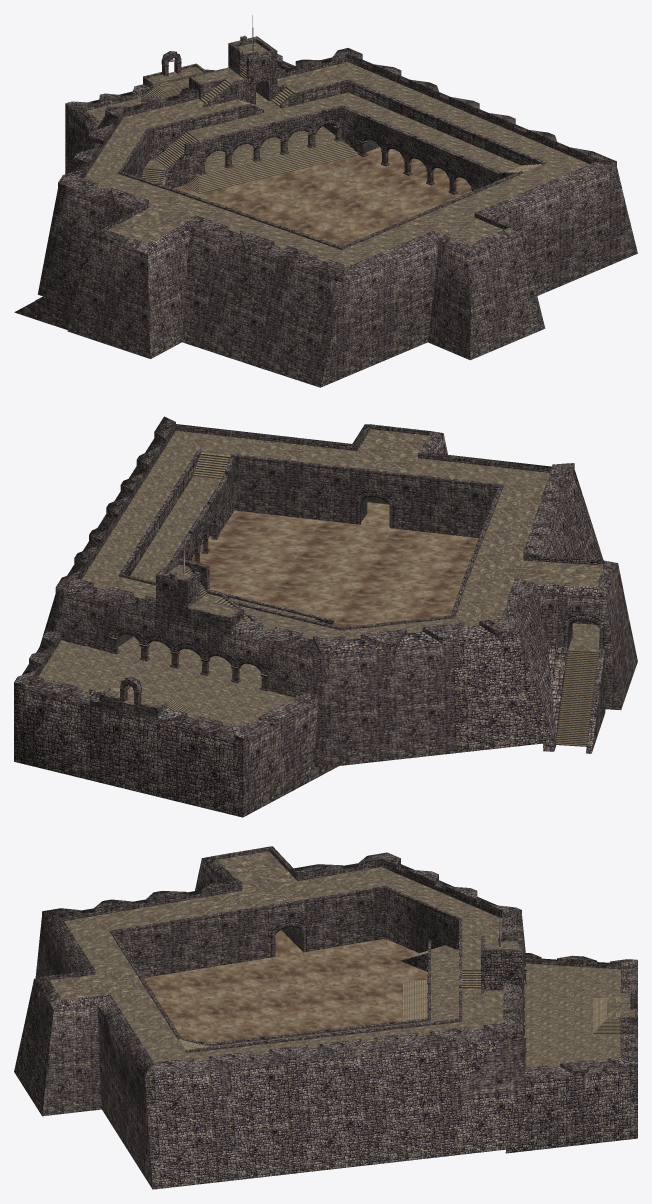
The model's file is old_fort.fbx.
3 views of the same model, one above another, from view 1: azimuth 30°, elevation 25°; view 2: azimuth 150°, elevation 25°; view 3: azimuth 270°, elevation 25° (orthographic). The views are drawn at different scales.
Visible parts, largest first — view 1: polySurface324, polySurface73, polySurface323, polySurface378, polySurface70, polySurface367, polySurface343, polySurface25, Stairs6, polySurface28, polySurface263, pCube79 (+2 smaller); view 2: polySurface324, polySurface28, polySurface323, polySurface73, polySurface70, polySurface263, polySurface378, polySurface389, polySurface25, polySurface343, polySurface367, pCube80 (+4 smaller); view 3: polySurface324, polySurface73, polySurface323, polySurface70, polySurface28, polySurface263, polySurface343, polySurface25, polySurface367, polySurface378, Stairs11, Stairs6.
Boxes of the visible parts, <box> form: polySurface324: <box>38,48,637,387</box>; polySurface73: <box>84,62,589,267</box>; polySurface323: <box>173,147,471,246</box>; polySurface378: <box>67,210,189,358</box>; polySurface70: <box>118,79,545,249</box>; polySurface367: <box>162,105,516,189</box>; polySurface343: <box>187,92,521,172</box>; polySurface25: <box>189,35,277,107</box>; Stairs6: <box>186,140,358,193</box>; polySurface28: <box>65,54,294,174</box>; polySurface263: <box>87,68,335,172</box>; pCube79: <box>14,277,80,329</box>; polySurface324: <box>39,416,603,767</box>; polySurface28: <box>14,631,338,817</box>; polySurface323: <box>191,502,575,631</box>; polySurface73: <box>82,429,603,639</box>; polySurface70: <box>119,450,503,630</box>; polySurface263: <box>38,636,294,726</box>; polySurface378: <box>533,557,637,709</box>; polySurface389: <box>555,623,599,746</box>; polySurface25: <box>156,558,257,635</box>; polySurface343: <box>130,475,315,620</box>; polySurface367: <box>167,457,334,625</box>; pCube80: <box>543,645,567,751</box>; polySurface324: <box>14,852,529,1189</box>; polySurface73: <box>49,851,503,1063</box>; polySurface323: <box>144,930,427,1042</box>; polySurface70: <box>109,885,484,1052</box>; polySurface28: <box>505,953,637,1153</box>; polySurface263: <box>524,963,620,1067</box>; polySurface343: <box>207,949,480,1047</box>; polySurface25: <box>481,936,521,994</box>; polySurface367: <box>181,940,431,1046</box>; polySurface378: <box>195,846,293,890</box>; Stairs11: <box>593,997,630,1033</box>; Stairs6: <box>403,980,427,1020</box>.
Bounding box in the file's own units: 45338 × 15052 × 45779.
4 materials, 4 textured.
